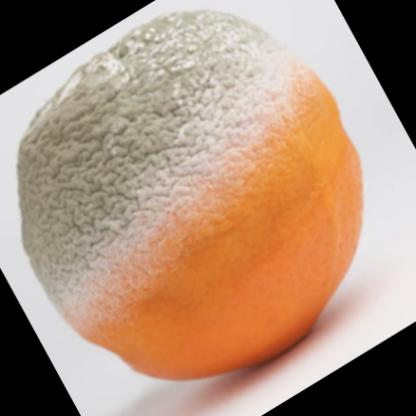rotten: (19, 14, 363, 379)
